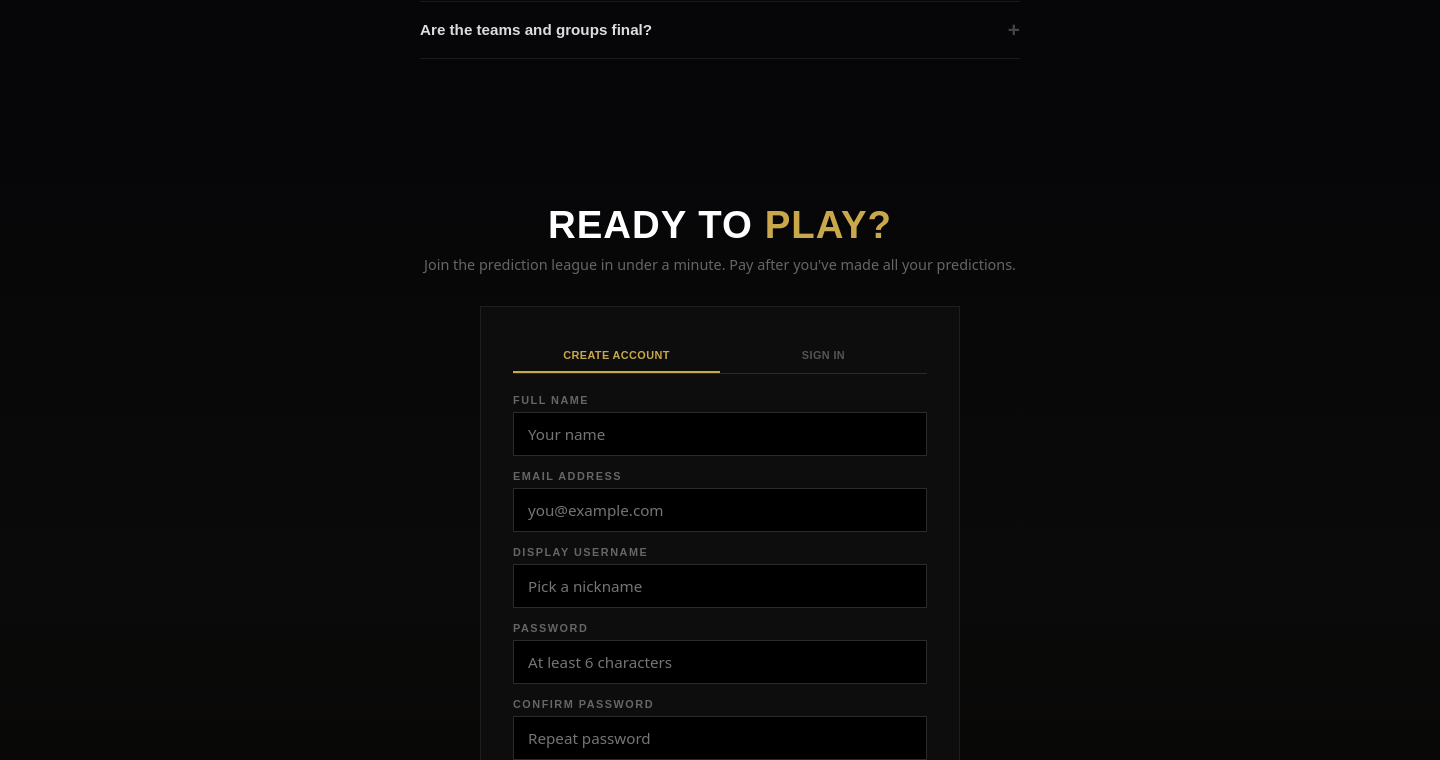
Test case: sign-in navigation › hides the payment tab and screen once the signed-in profile is already paid
(page scrolled)
Click the tab "Sign in" at [824, 356], box [720,339,927,373]
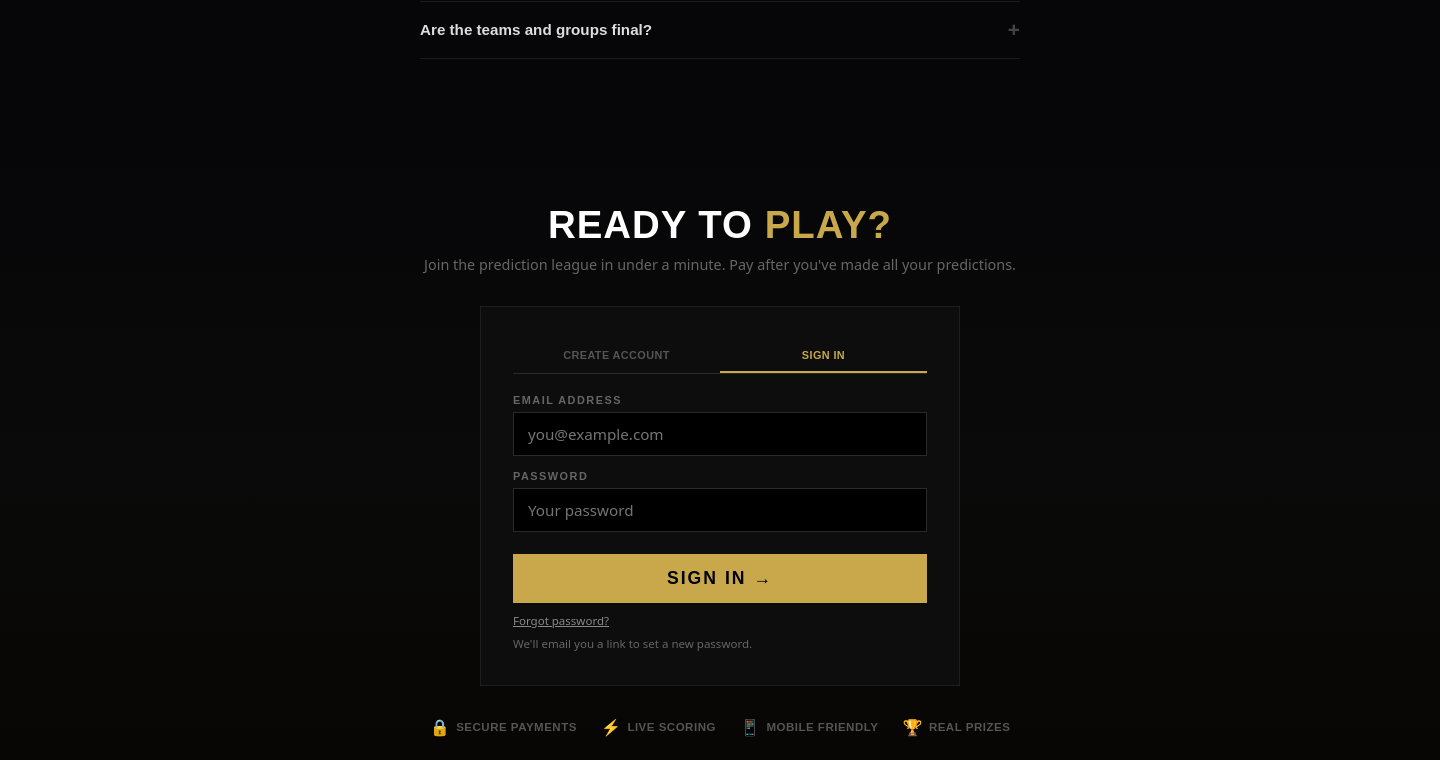
Type "player@example.com" into the field named "email address" at [720, 434], box [513,412,927,456]
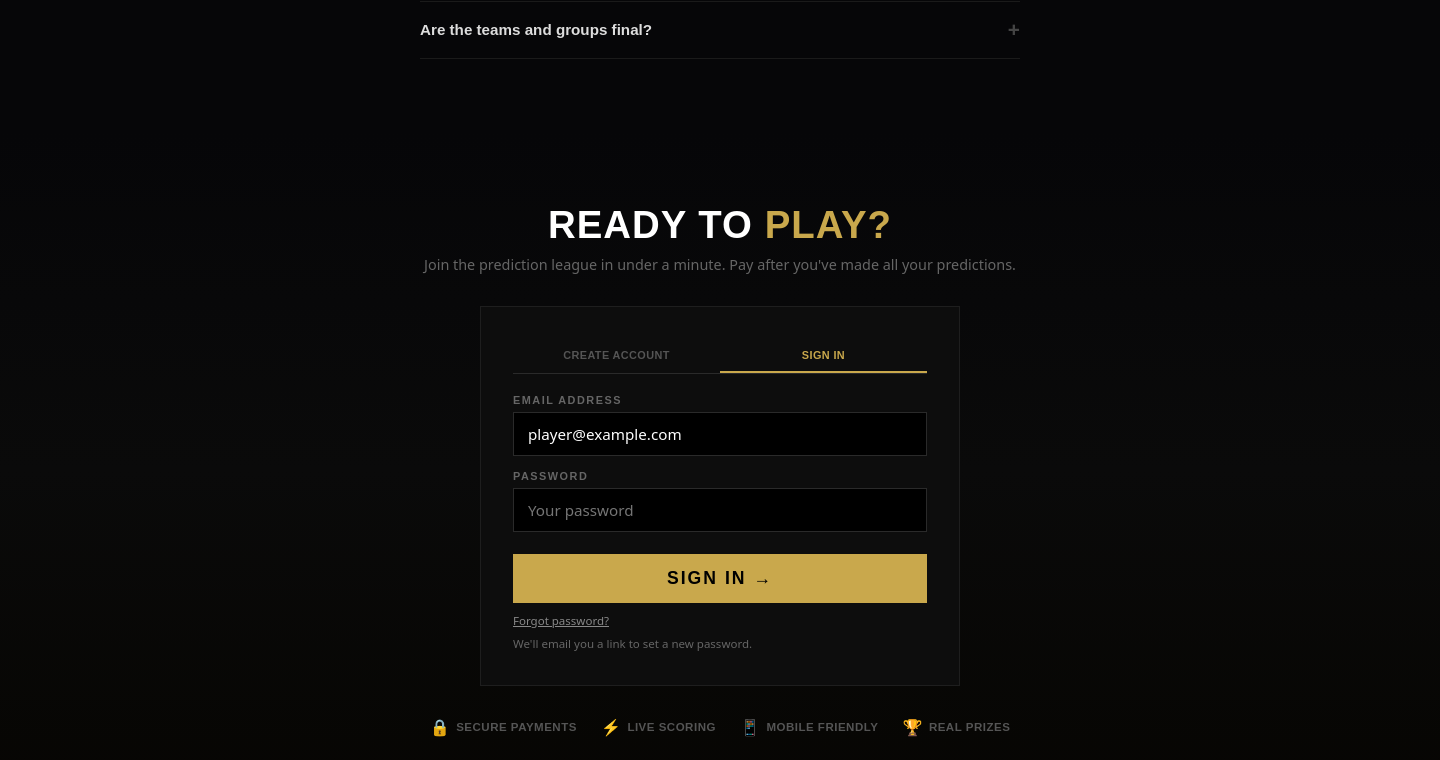
Type "correct-password" into the password field labelled "Your password" at [720, 510], box [513,488,927,532]
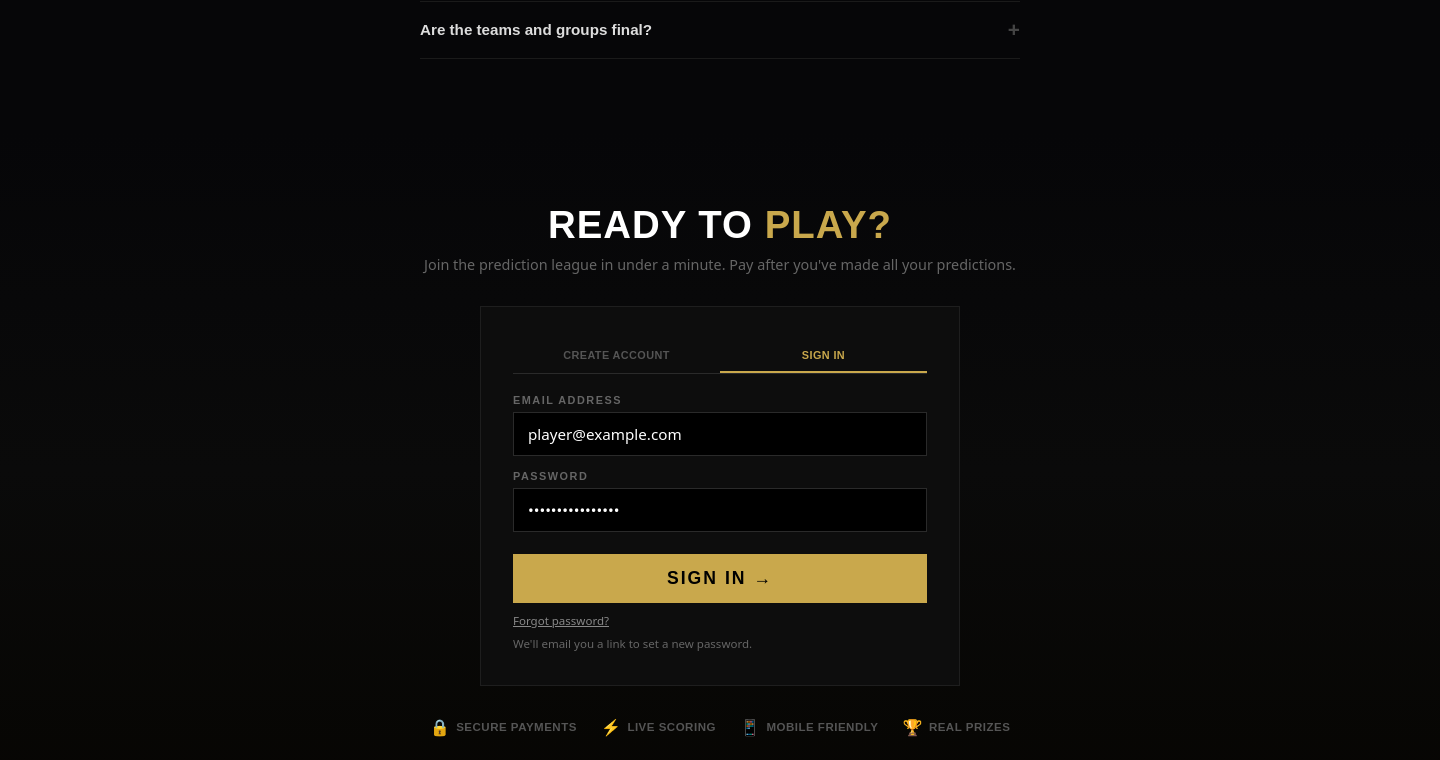
Click the button "Sign in →" at [720, 578], box [513,554,927,603]
(page scrolled)
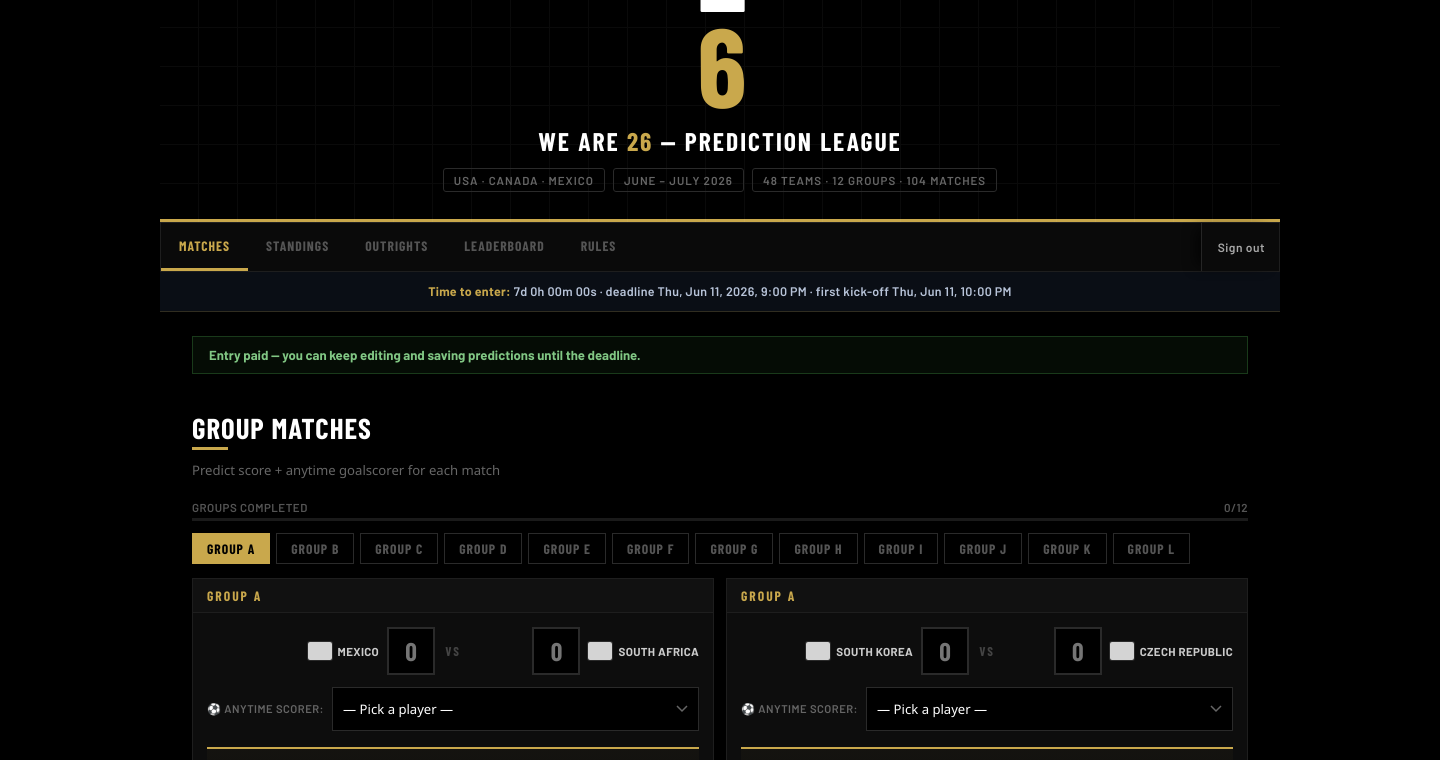
Expected: the tab "Leaderboard" is shown, [446,223,563,271]
Now the text "Entry paid" is shown, box [209,347,640,363]
